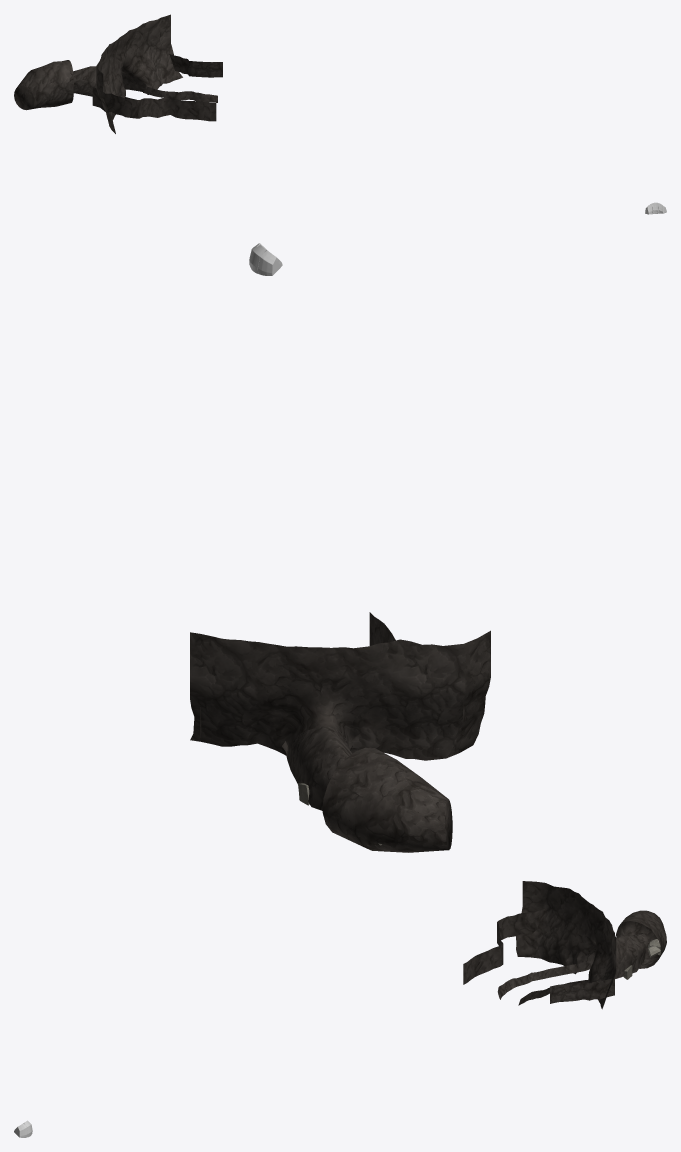
The model's file is Fixes_lvl_1.FBX.
The picture shows the model from 3 angles, top to bottom: view 1: azimuth 30°, elevation 25°; view 2: azimuth 150°, elevation 25°; view 3: azimuth 270°, elevation 25°; orthographic projection. The views are drawn at different scales.
Visible parts, largest first — view 1: Zone 4 walls; view 2: Zone 4 walls; view 3: Zone 4 walls.
Boxes of the visible parts, x1,y1,x2,y2 form: Zone 4 walls: (14, 14, 222, 133); Zone 4 walls: (190, 612, 490, 852); Zone 4 walls: (463, 881, 666, 1009).
Bounding box in the file's own units: 199 × 38.24 × 265.
